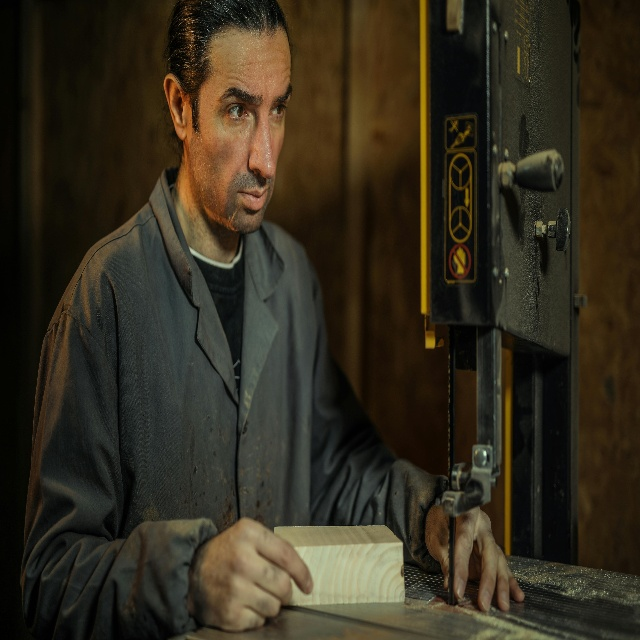Sin_guantes: (188, 515, 313, 634), (424, 503, 525, 613)
